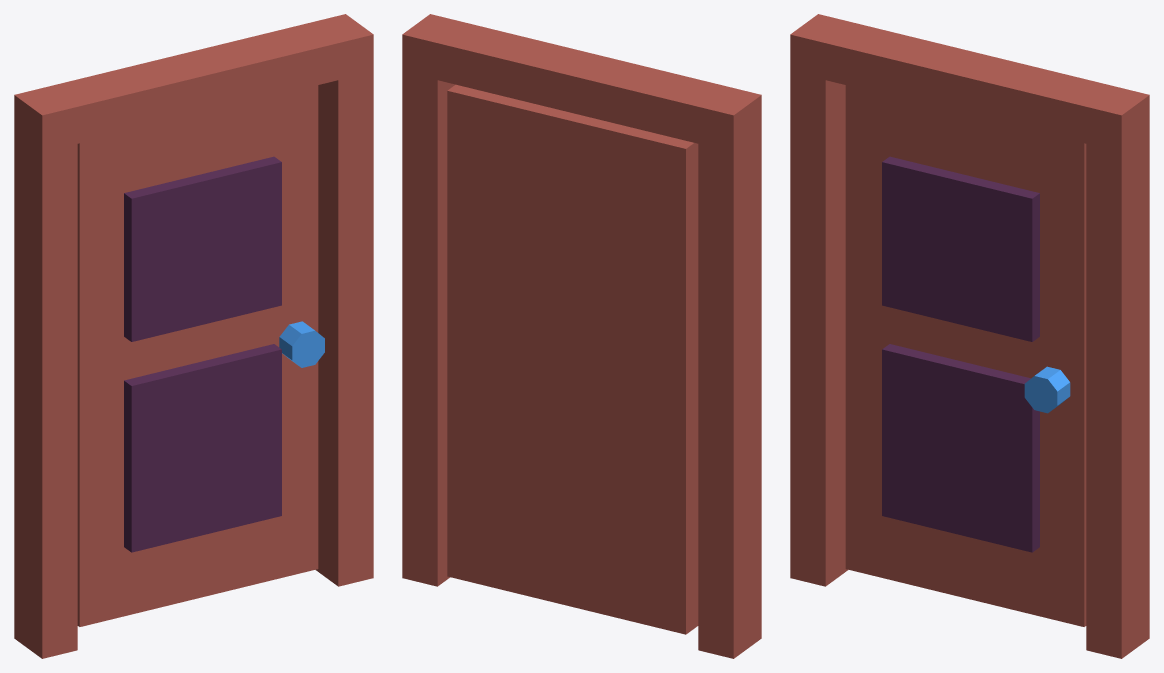
File: doorway.obj
3 views of the same model, side by side, from view 1: azimuth 30°, elevation 25°; view 2: azimuth 150°, elevation 25°; view 3: azimuth 330°, elevation 25° (orthographic).
Visible parts, largest first — view 1: cozy-door-slab, left-frame, right-frame, lower-panel, upper-panel, top-frame, round-knob; view 2: cozy-door-slab, left-frame, right-frame, top-frame; view 3: cozy-door-slab, right-frame, left-frame, lower-panel, upper-panel, top-frame, round-knob.
Part boxes in pixels (x1,y1,x2,y2): cozy-door-slab: [77, 85, 318, 626]; left-frame: [14, 111, 77, 658]; right-frame: [315, 51, 373, 586]; lower-panel: [124, 344, 281, 552]; upper-panel: [124, 156, 281, 341]; top-frame: [14, 14, 373, 151]; round-knob: [279, 321, 324, 367]; cozy-door-slab: [447, 84, 698, 634]; left-frame: [698, 111, 761, 658]; right-frame: [402, 51, 455, 586]; top-frame: [402, 14, 761, 151]; cozy-door-slab: [845, 85, 1086, 626]; right-frame: [1086, 111, 1149, 658]; left-frame: [790, 51, 848, 586]; lower-panel: [882, 344, 1039, 552]; upper-panel: [882, 156, 1039, 341]; top-frame: [790, 14, 1149, 151]; round-knob: [1024, 366, 1070, 413].
Bounding box in the file's own units: 1.5 × 2.35 × 0.29.
